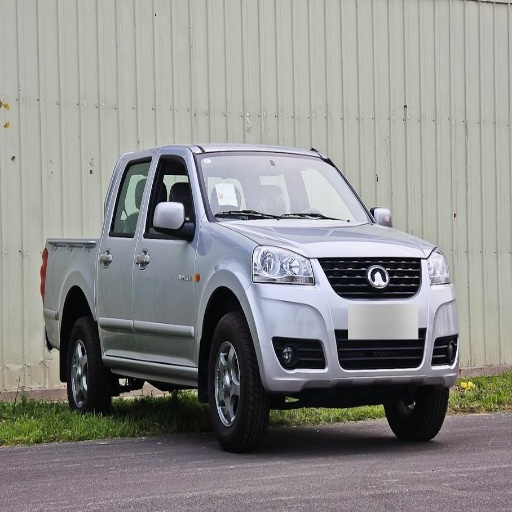front_bumper: (247, 257, 466, 392)
front_right_door: (131, 150, 197, 364)
front_right_light: (253, 245, 315, 285)
hood: (223, 220, 434, 257)
trunk: (41, 239, 90, 332)
